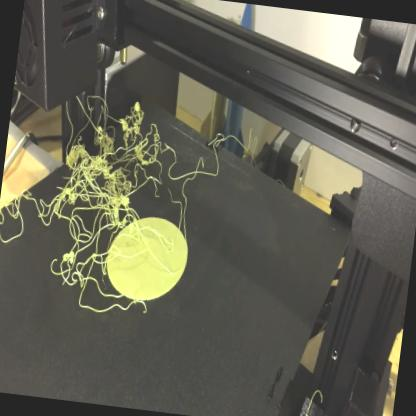fail: (1, 64, 185, 334)
